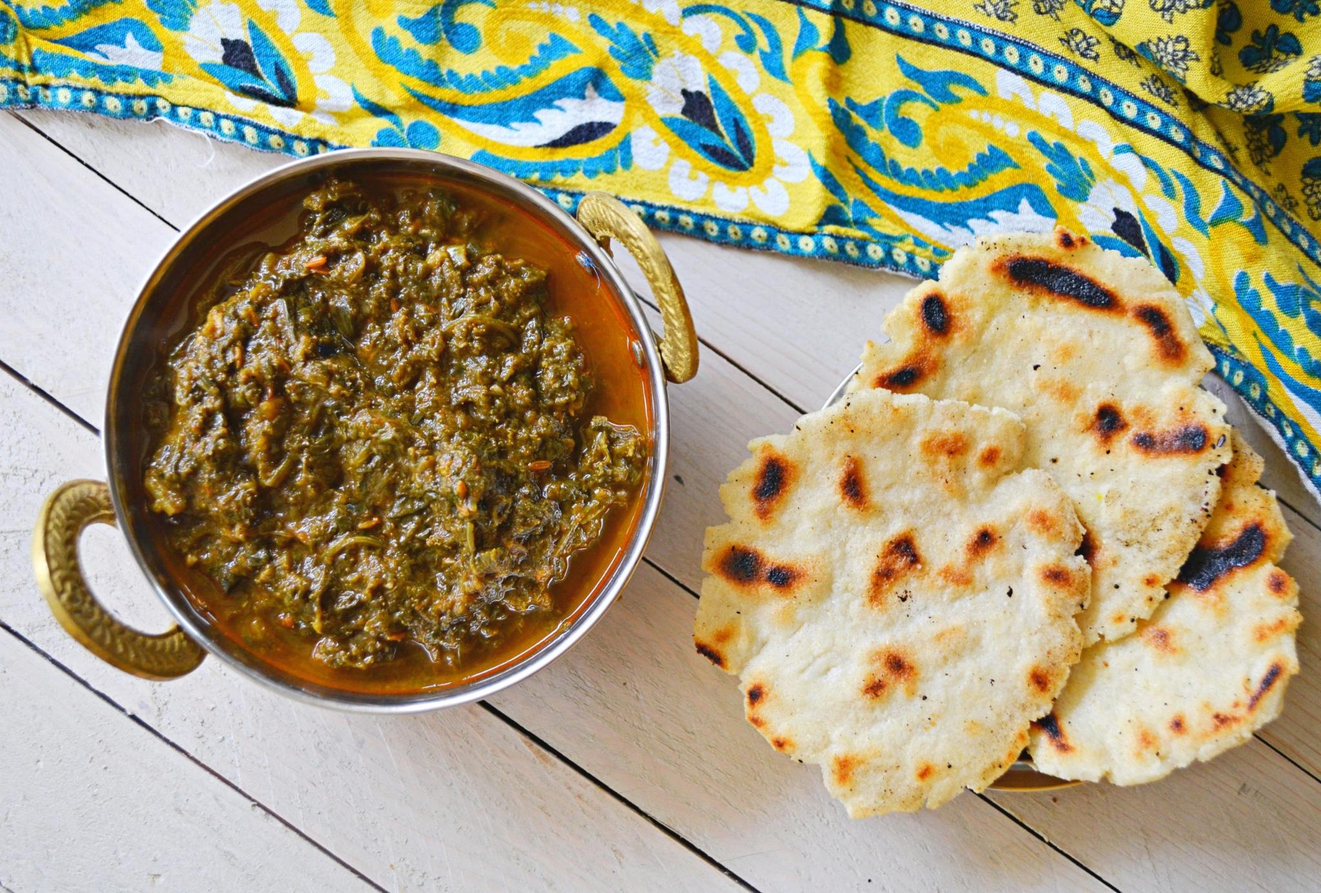saag: (117, 162, 643, 677)
